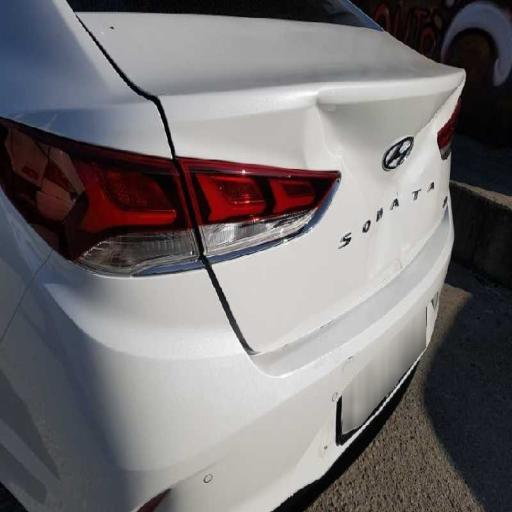dent: (216, 20, 446, 242)
